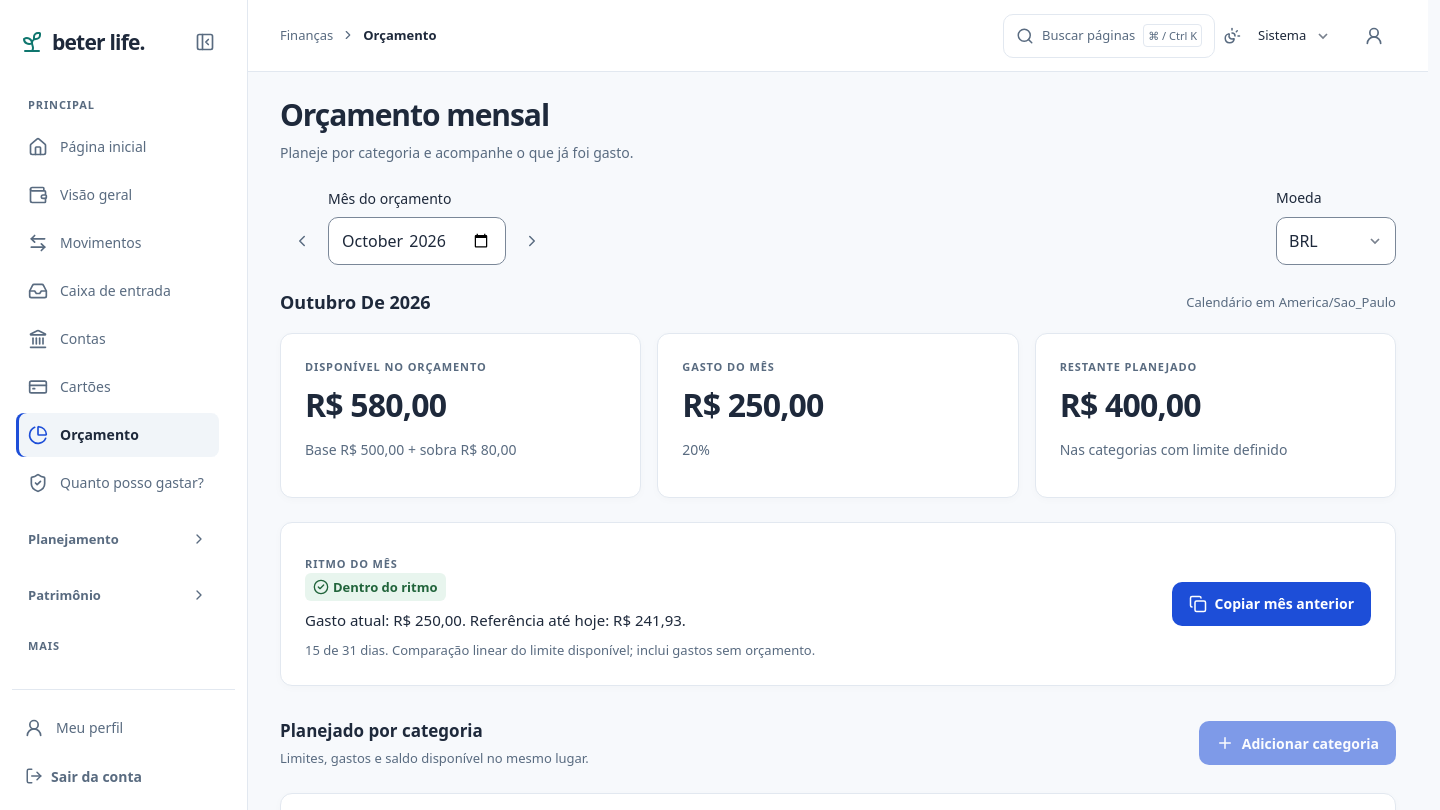
budget UI with real transport, query cache and Auth V2 guard › copies once without overwriting and displays positive rollover and unplanned spending
Double-click the button "Copiar mês anterior".
double_click(1271, 604)  # box [1172,582,1371,626]
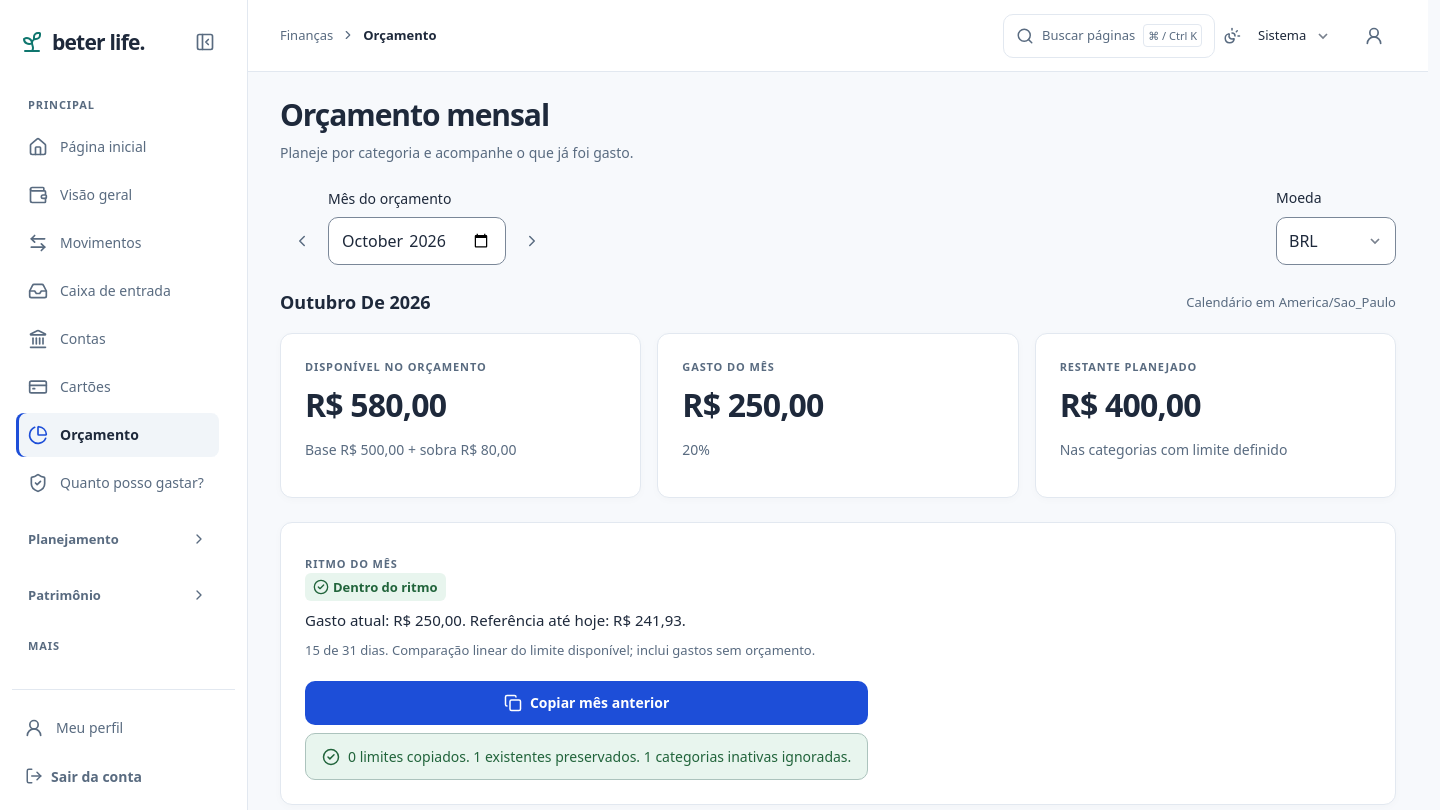
Expected: the text "0 limites copiados. 1 existentes preservados. 1 categorias inativas ignoradas." is shown, [348,746,851,767]
